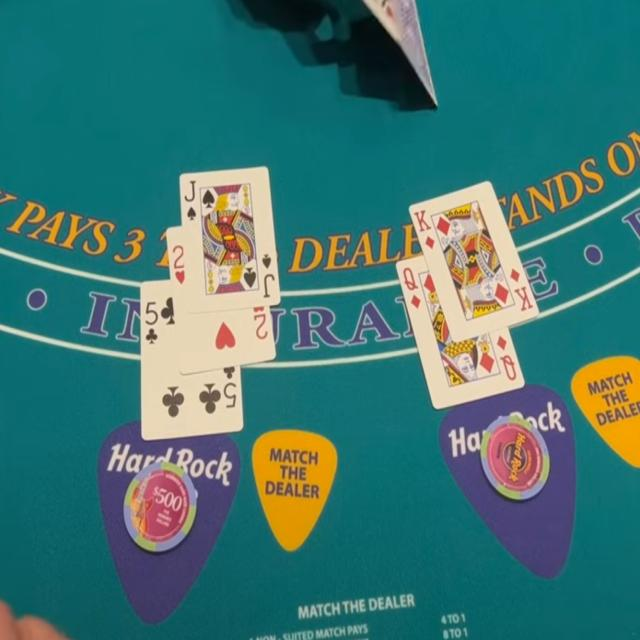2: (169, 242, 188, 270)
5: (143, 298, 160, 328)
J: (181, 176, 199, 204)
K: (412, 208, 433, 233)
Q: (401, 264, 420, 293)
